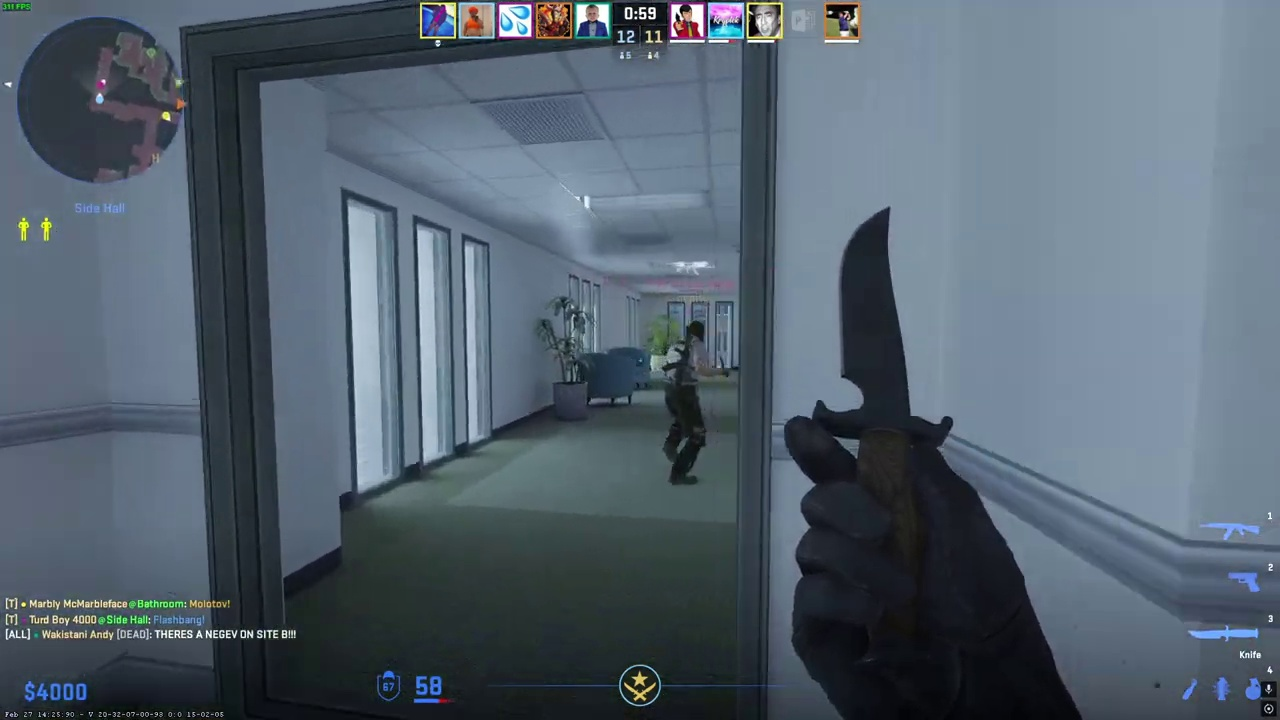Terrorist: (662, 320, 714, 486)
